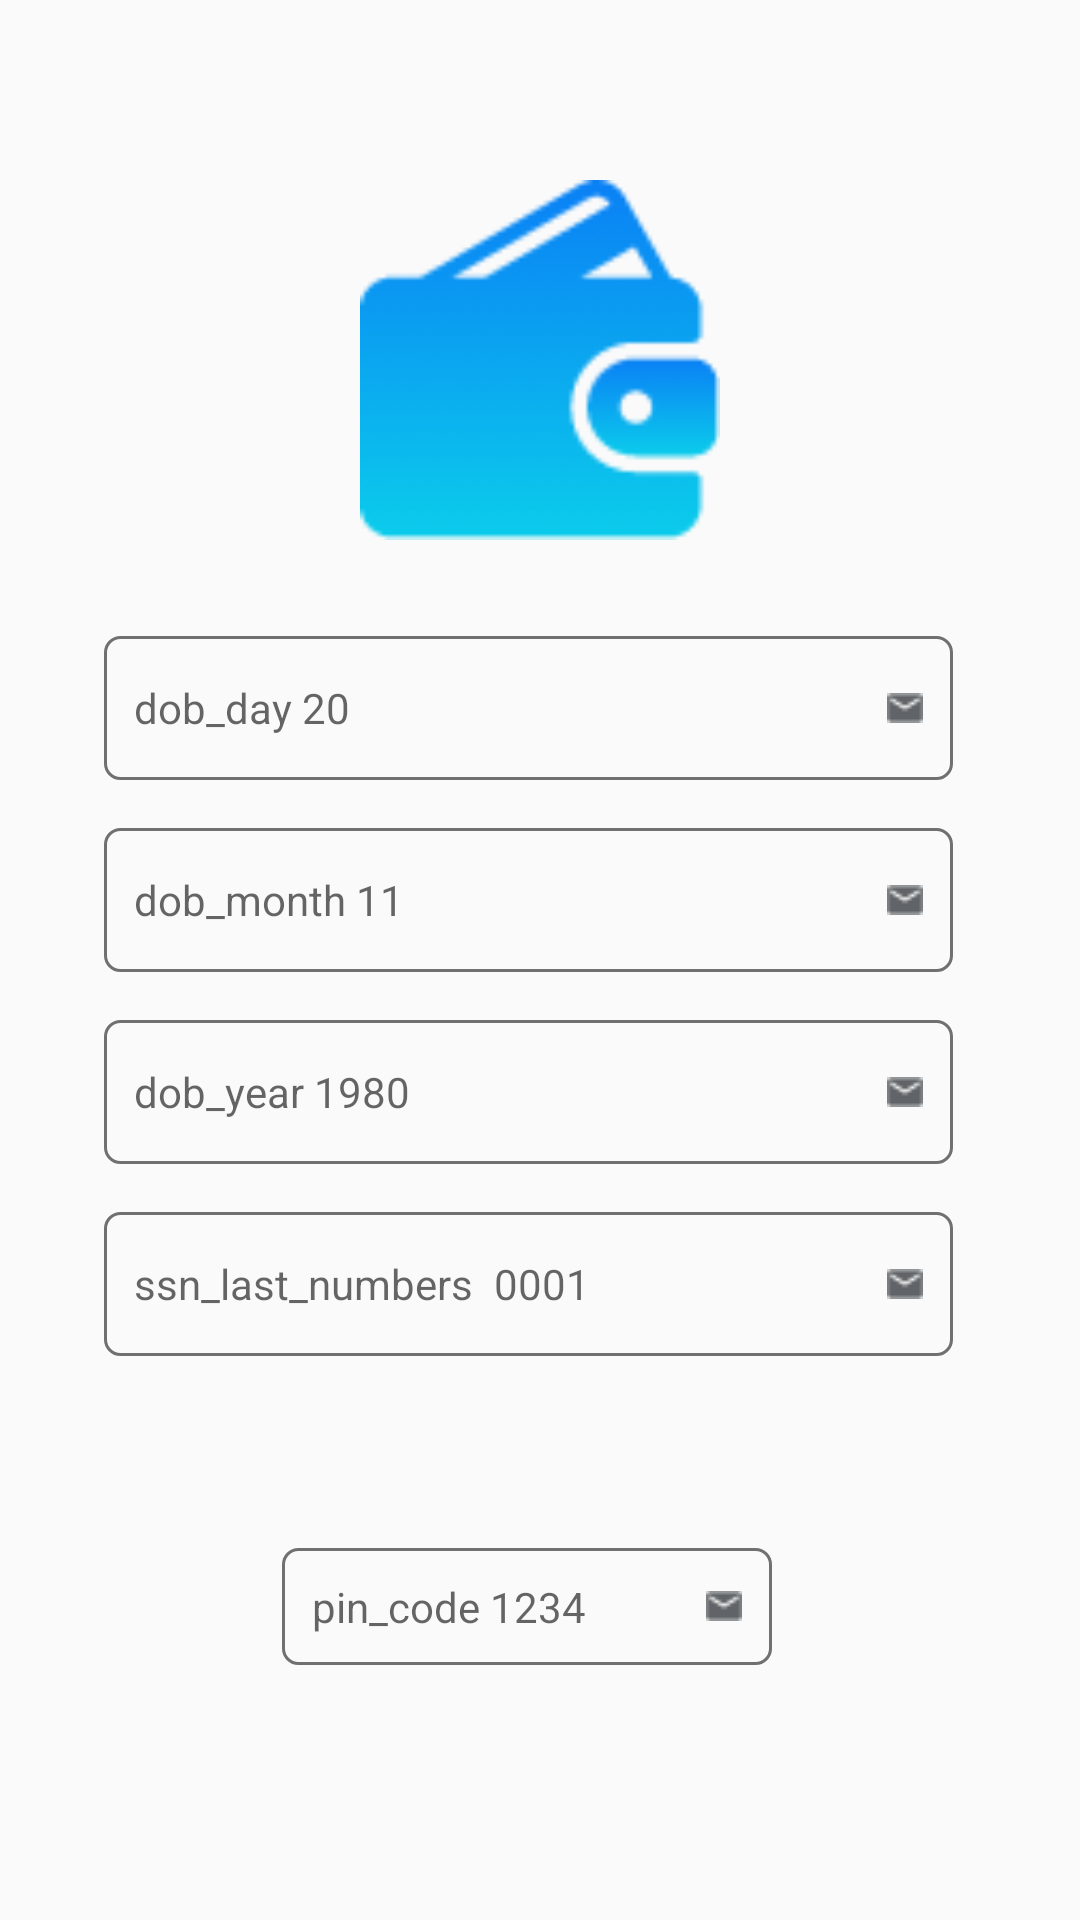

Named icons in this screenshot (1080w x 1920h) and their bounding boxes, (x1=x1, y1=y1, x2=x2, y2=y2):
wallet: (x1=360, y1=180, x2=720, y2=540)
